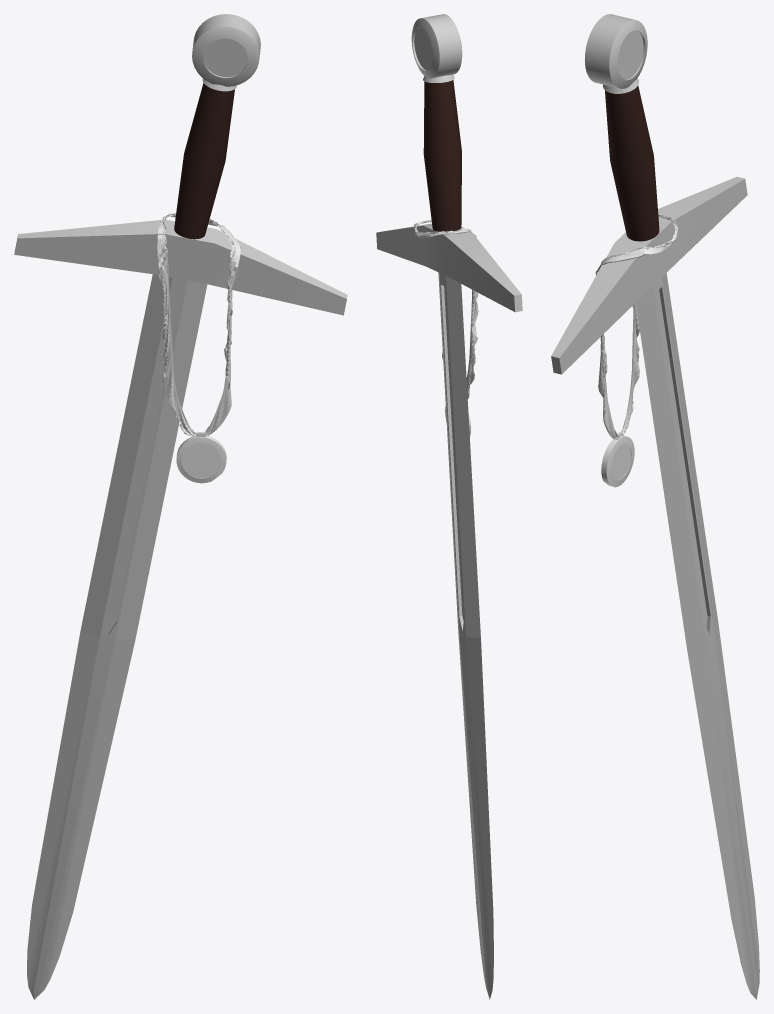
Rendered from mainMenuScene.fbx.
The picture shows the model from 3 angles, left to right: view 1: azimuth 30°, elevation 25°; view 2: azimuth 150°, elevation 25°; view 3: azimuth 270°, elevation 25°; orthographic projection. The views are drawn at different scales.
Visible parts, largest first — view 1: Cylinder, Cylinder.001; view 2: Cylinder, Cylinder.001; view 3: Cylinder, Cylinder.001.
Part boxes in pixels (x1,y1,x2,y2): Cylinder: [14, 14, 347, 999]; Cylinder.001: [157, 213, 240, 483]; Cylinder: [376, 14, 522, 999]; Cylinder.001: [413, 220, 478, 436]; Cylinder: [551, 14, 759, 999]; Cylinder.001: [595, 213, 677, 487].
Bounding box in the file's own units: 32.21 × 124 × 22.54.
